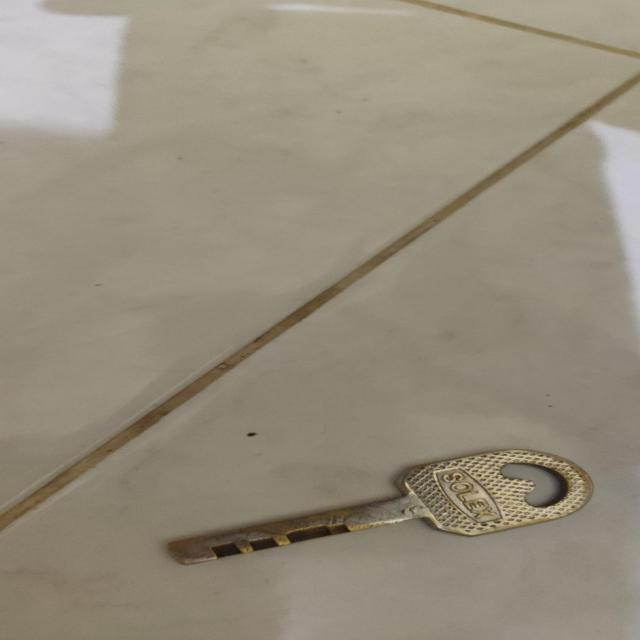kunci_pagar: (166, 443, 604, 569)
